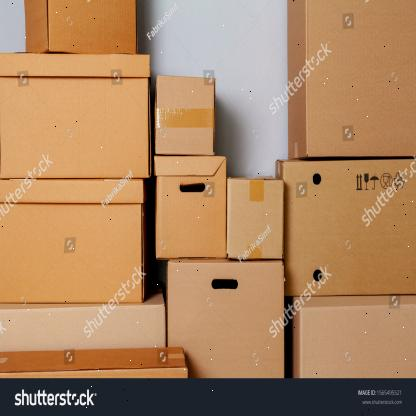box: (0, 53, 151, 179), (0, 177, 142, 304), (283, 160, 416, 295), (305, 0, 416, 161), (167, 260, 285, 380), (296, 297, 416, 379), (154, 156, 228, 263), (226, 176, 286, 261), (156, 73, 216, 157)
